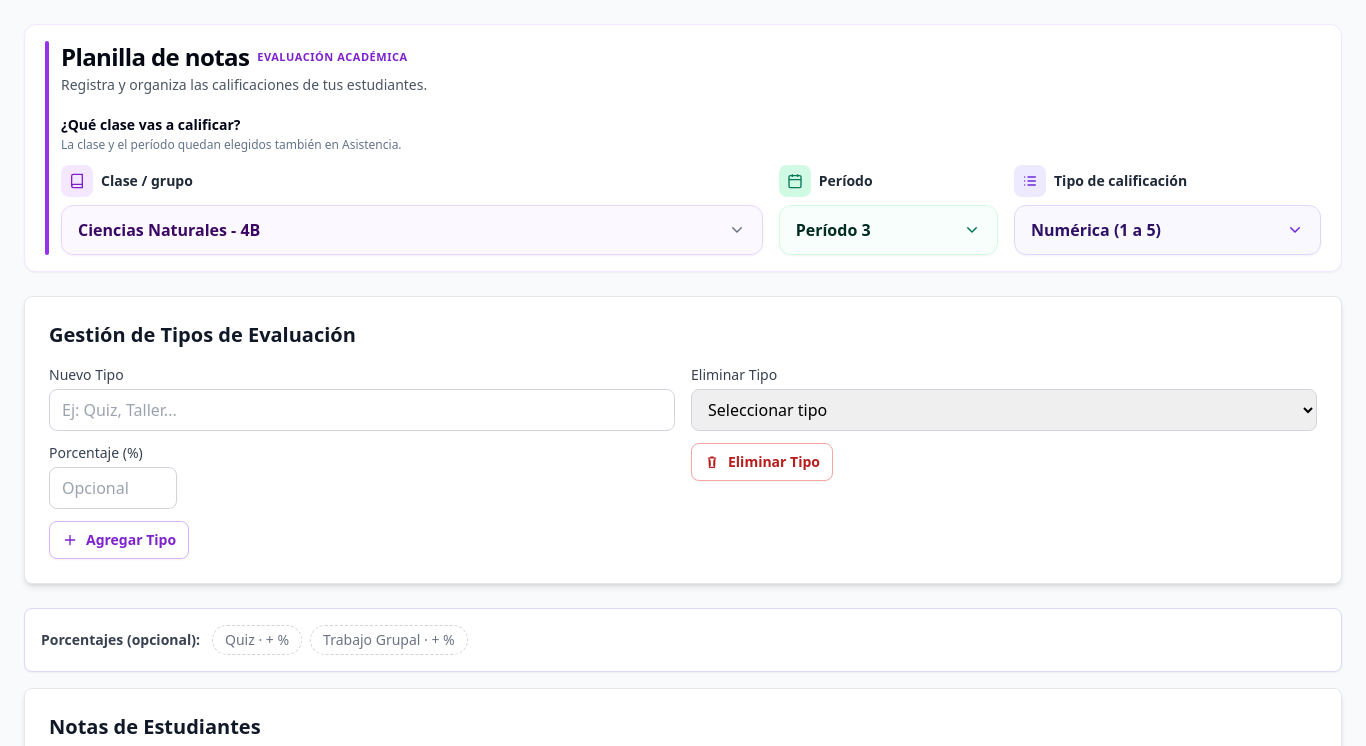
Scenario: porcentajes por tipo de nota en la planilla › crear un tipo con su porcentaje lo guarda después de crear el tipo
Check: the dropdown showing "Ciencias Naturales - 4B" is shown, box [61,205,763,255]
Type "Cuaderno" into the field with placeholder "Ej: Quiz, Taller..." at point(362, 410), box [49,389,675,431]
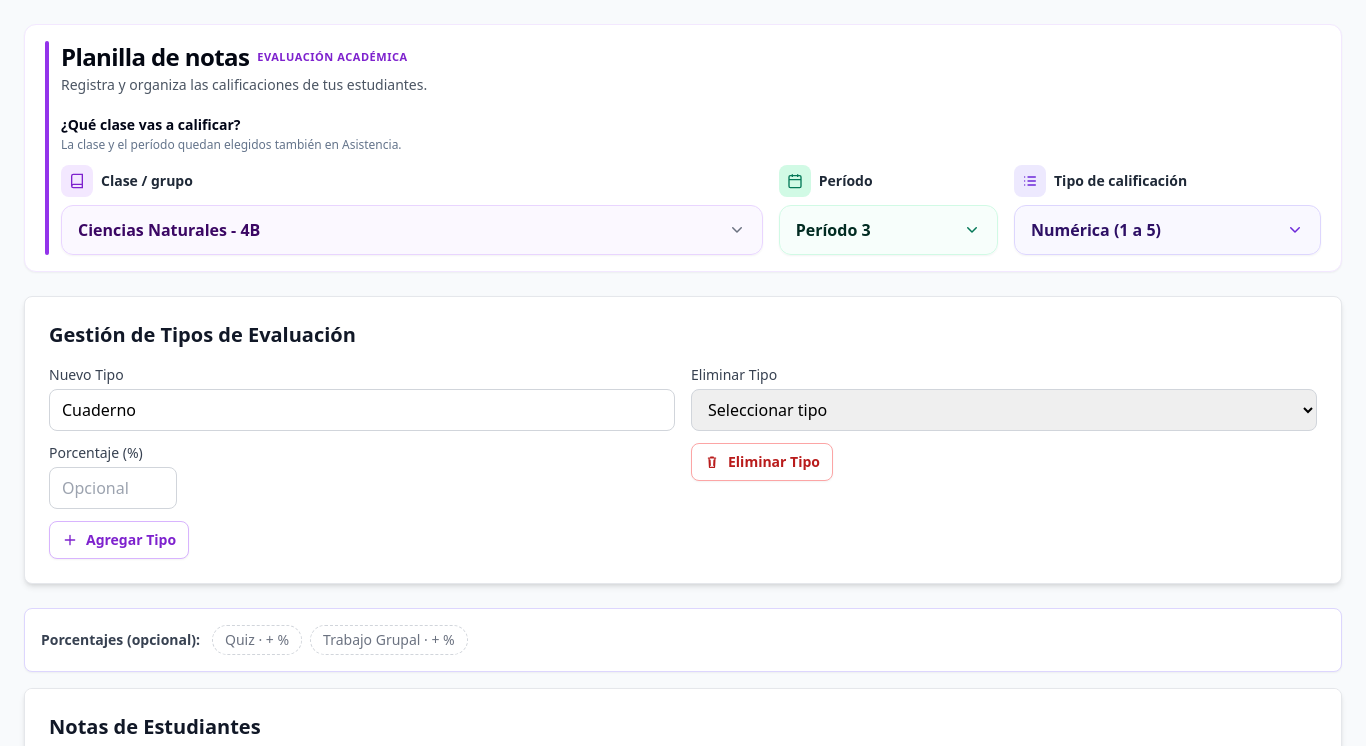
Type "40" into the field labelled "Porcentaje (%)" at point(113, 488), box [49,467,177,509]
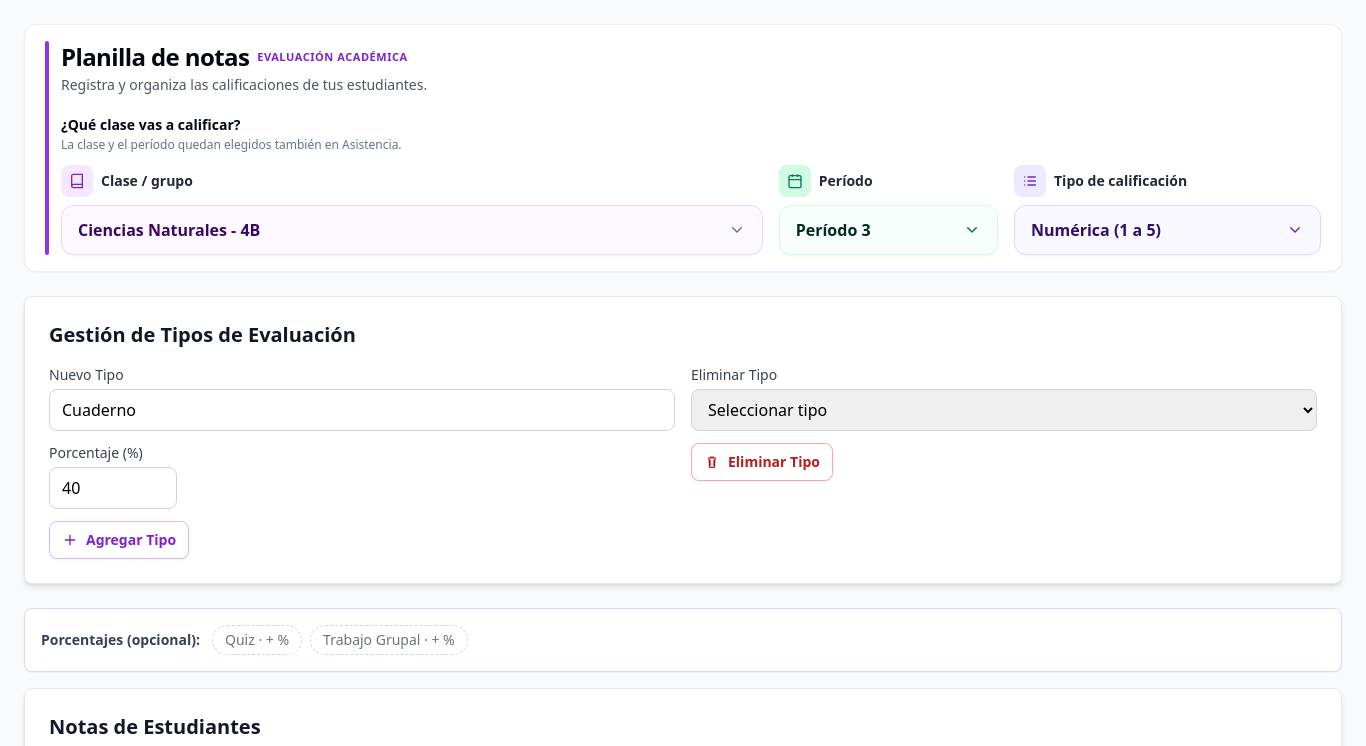
Click the button "Agregar Tipo" at point(119, 540), box [49,521,189,559]
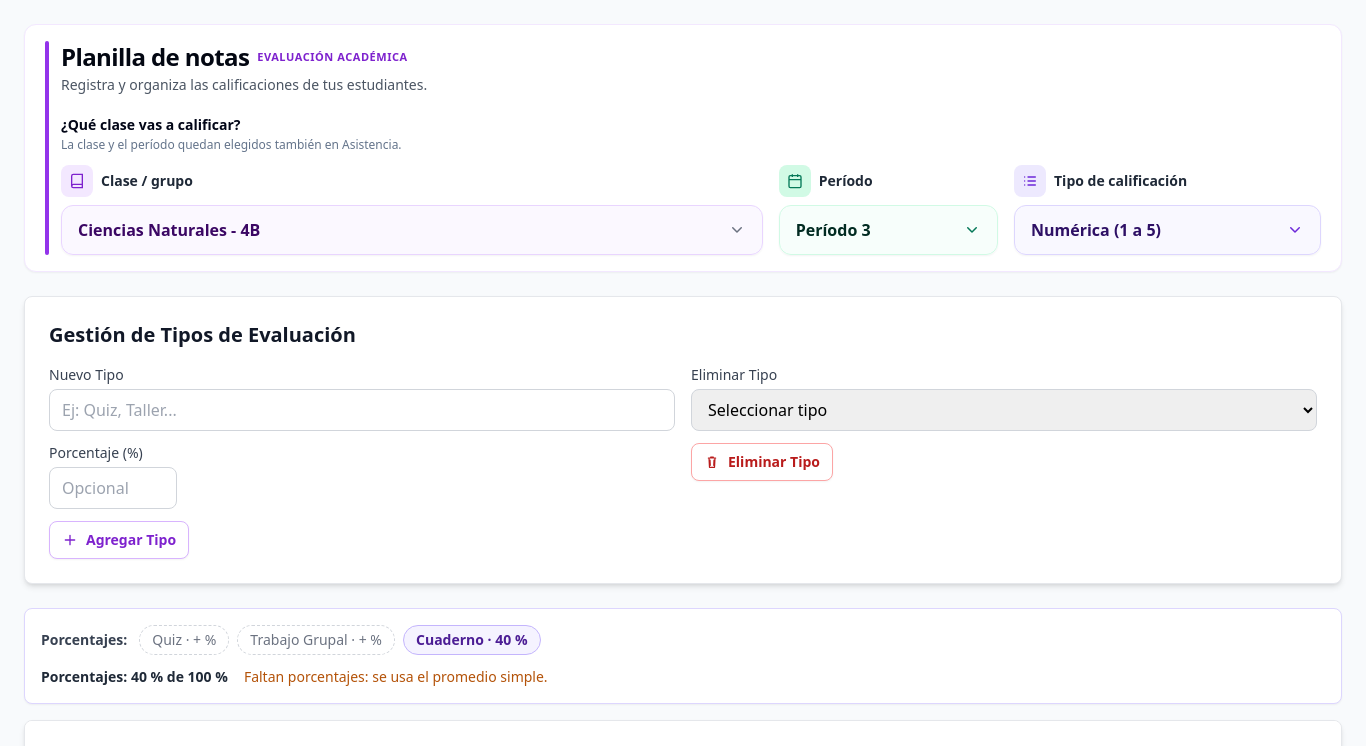
Check: the button with aria-label "Cambiar el porcentaje de Cuaderno: 40 %" is shown, box [403,625,540,655]
Check: the text "Porcentajes: 40 % de 100 %" is shown, box [41,667,228,687]
Check: the field labelled "Porcentaje (%)" is empty, box [49,467,177,509]
